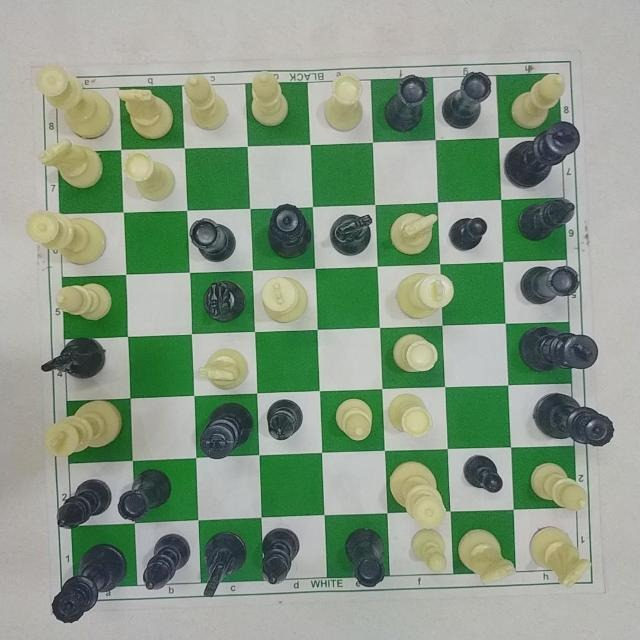black-bishop: (55, 475, 113, 530), (142, 530, 192, 591), (516, 196, 577, 243), (260, 525, 302, 586), (265, 397, 305, 443)
black-king: (502, 119, 582, 191), (516, 324, 600, 374), (198, 400, 256, 461)
black-knight: (200, 530, 249, 599), (38, 335, 107, 381), (326, 212, 373, 258), (200, 278, 247, 323)
black-pawn: (461, 452, 505, 495), (447, 217, 489, 253)
black-queen: (47, 541, 129, 625), (531, 390, 616, 448), (264, 200, 313, 261)
black-rook: (116, 467, 174, 523), (439, 69, 492, 130), (382, 72, 430, 134), (342, 527, 387, 589), (518, 263, 582, 306), (187, 216, 237, 264)
white-bishop: (509, 71, 567, 130), (528, 460, 589, 512), (182, 72, 231, 133), (53, 281, 114, 323), (247, 71, 290, 129), (332, 397, 375, 443)
white-king: (41, 397, 126, 460), (393, 271, 457, 321), (258, 274, 309, 325)
white-knight: (526, 524, 594, 590), (454, 525, 517, 586), (37, 137, 105, 190), (116, 87, 174, 141), (387, 210, 440, 258), (195, 346, 250, 392)
white-pawn: (409, 527, 449, 575)
white-queen: (32, 61, 116, 142), (23, 207, 108, 267), (386, 459, 448, 531)
white-rook: (119, 148, 178, 203), (321, 72, 365, 133), (385, 391, 435, 439), (390, 331, 440, 374)
